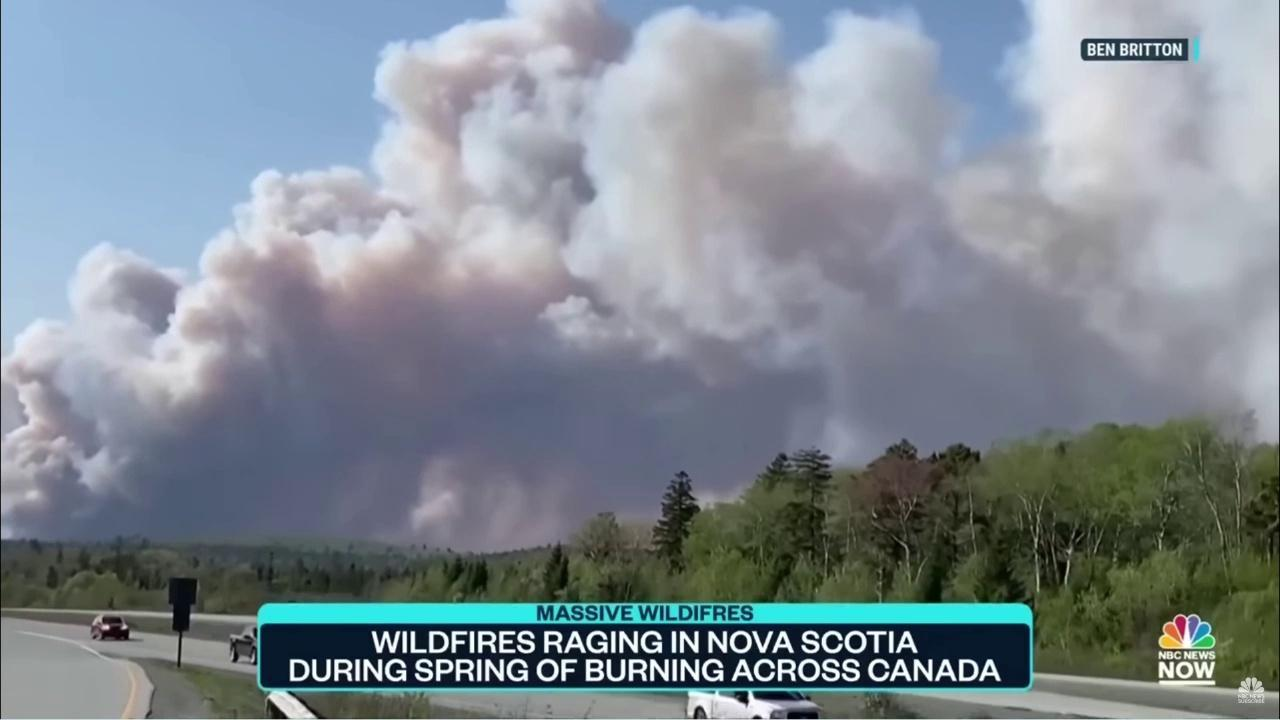smoke: (0, 0, 1280, 556)
